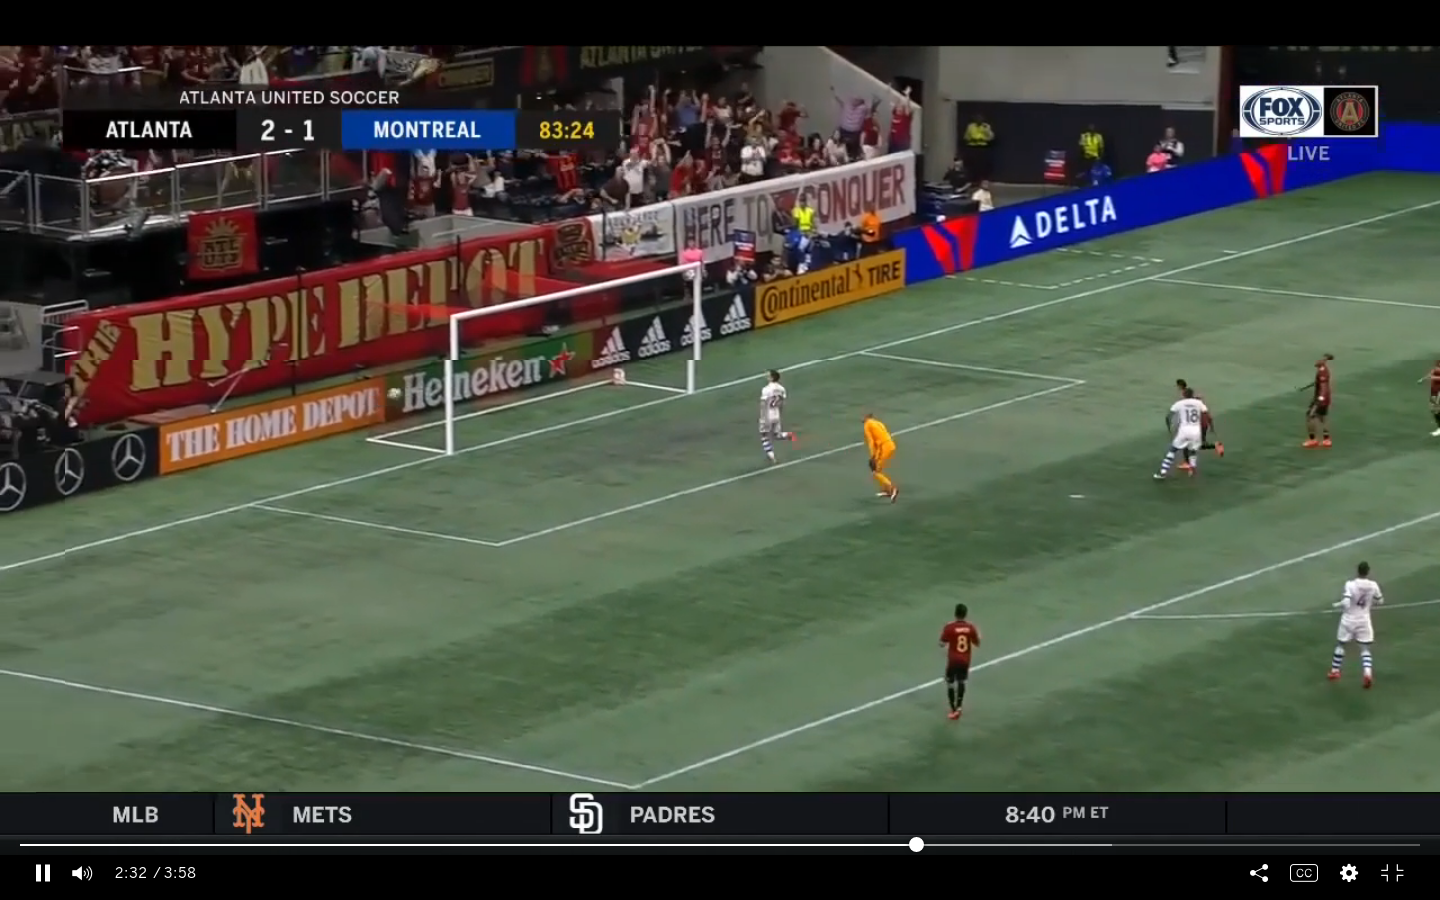soccer player: (1324, 560, 1384, 694), (938, 600, 984, 726), (753, 368, 799, 469), (1296, 349, 1342, 452), (858, 405, 902, 506), (1162, 391, 1205, 480)
soccerball: (384, 383, 404, 403)
